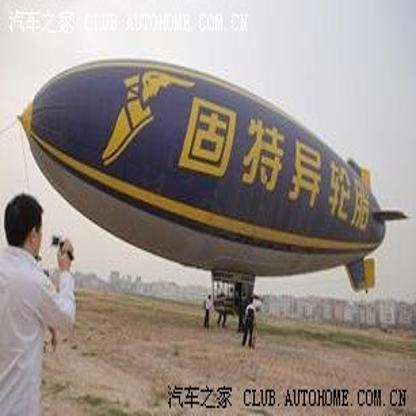Airship: (19, 56, 406, 299)
